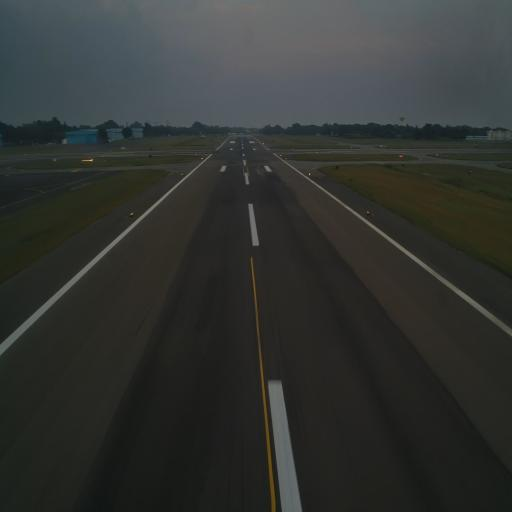on: (366, 207, 372, 218), (128, 210, 135, 218)
